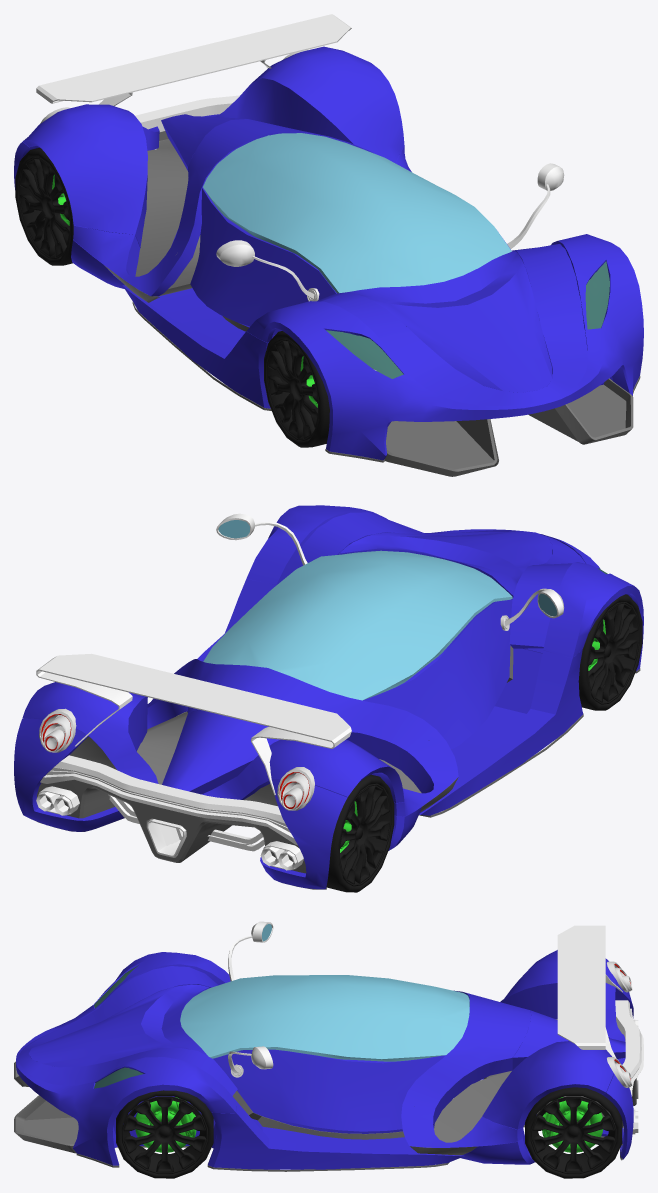
Rendered from ferari_Retopo_Final.fbx.
3 views of the same model, one above another, from view 1: azimuth 30°, elevation 25°; view 2: azimuth 150°, elevation 25°; view 3: azimuth 270°, elevation 25° (orthographic). The views are drawn at different scales.
Parts seen in each view (by area): view 1: mainbody_l, Window_glass_l, extras2_l, extras1_l, breaks_l.002, breaks_l.003, Front_glass_l; view 2: mainbody_l, Window_glass_l, extras1_l, extras2_l, breaks_l.003, breaks_l.002, backlight_Chrome_l; view 3: mainbody_l, Window_glass_l, extras1_l, extras2_l, breaks_l, breaks_l.001, backlight_Chrome_l, Front_glass_l.
Part boxes in pixels (x1,y1,x2,y2): mainbody_l: (14,46,643,460); Window_glass_l: (203,133,511,293); extras2_l: (104,131,640,476); extras1_l: (36,14,564,301); breaks_l.002: (264,331,329,447); breaks_l.003: (15,147,73,265); Front_glass_l: (326,261,609,378); mainbody_l: (14,505,643,889); Window_glass_l: (203,520,557,700); extras1_l: (36,513,564,870); extras2_l: (36,646,640,889); breaks_l.003: (326,774,394,892); breaks_l.002: (578,594,642,710); backlight_Chrome_l: (39,708,314,810); mainbody_l: (16,950,633,1169); Window_glass_l: (180,924,469,1061); extras1_l: (228,921,643,1134); extras2_l: (14,1019,636,1171); breaks_l: (525,1087,622,1178); breaks_l.001: (116,1090,213,1178); backlight_Chrome_l: (607,961,632,1087); Front_glass_l: (94,965,143,1088).
Size of the model in its own units: 241 by 106 by 465.
